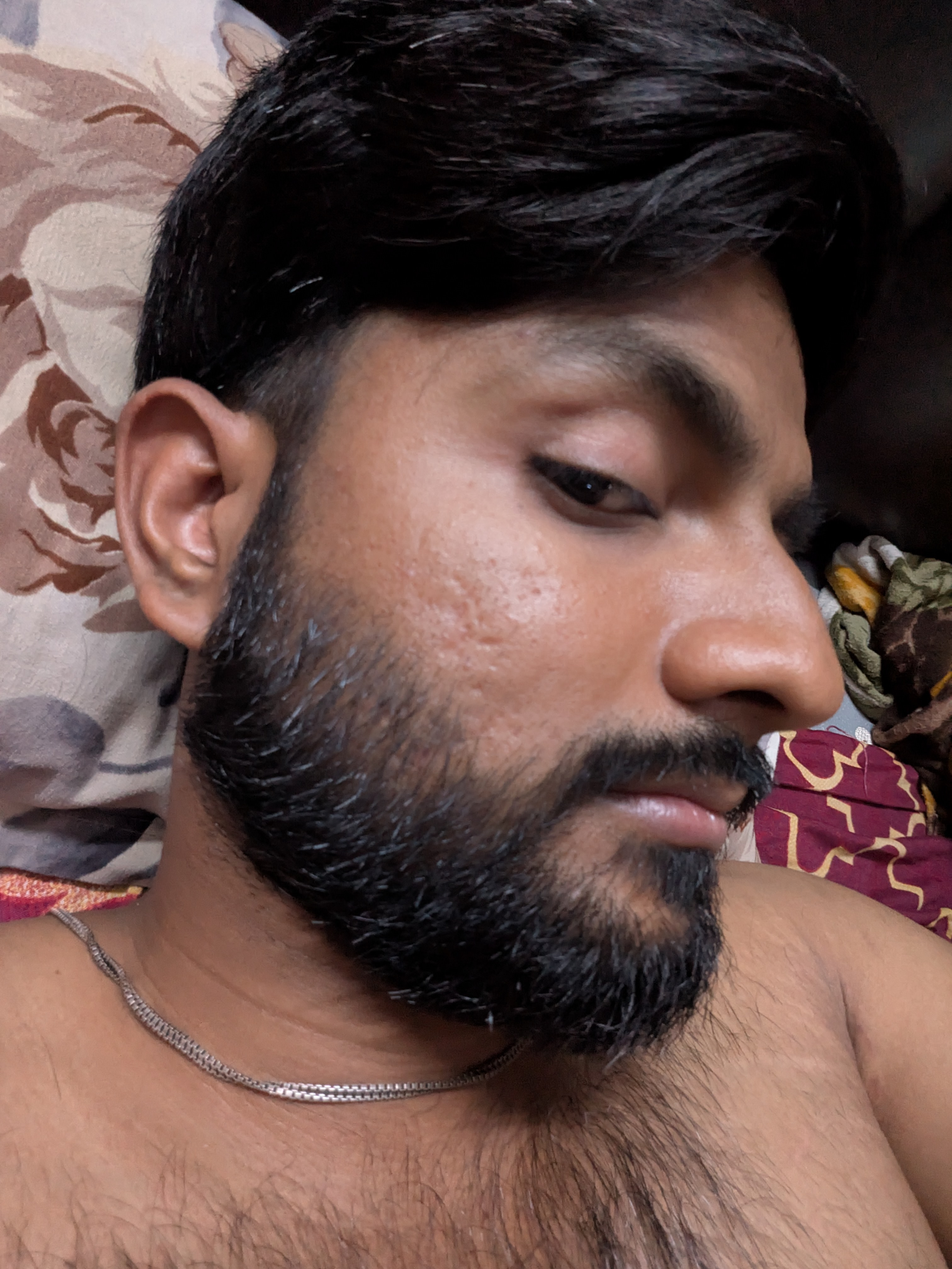closed_comedone: (526, 527, 560, 559)
